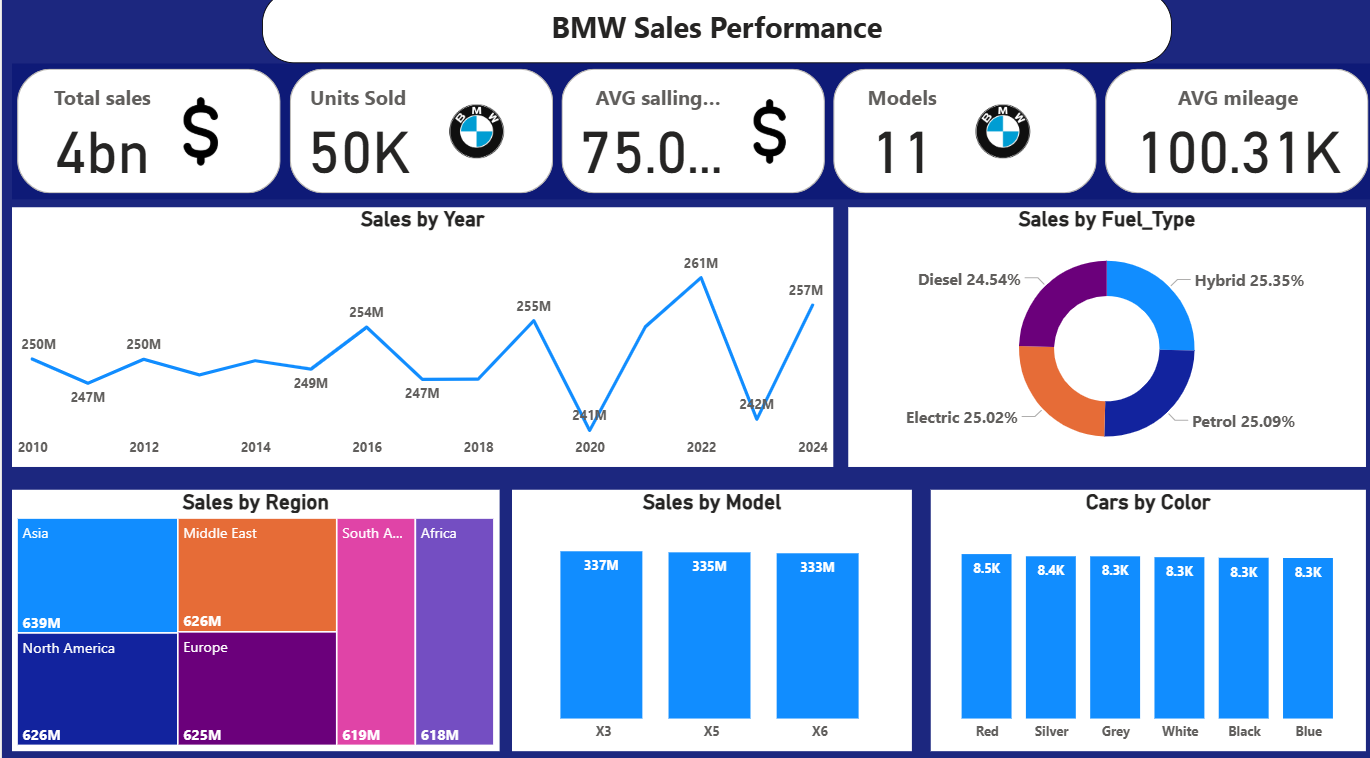

Layout of this report page (visuals, bound fields, positions):
{"tool":"powerbi","page":{"name":"Overview","canvas":[1280,720],"ordinal":0},"visuals":[{"type":"cardVisual","fields":{"Data":["BMW sales data (2010-2024) (1).Total sales","BMW sales data (2010-2024) (1).Total Cars","BMW sales data (2010-2024) (1).AVG salling price","BMW sales data (2010-2024) (1).Models","BMW sales data (2010-2024) (1).AVG mileage"]},"box":[9.3,67.4,1270.9,126.7],"z":0},{"type":"textbox","box":[241.9,0,846.5,67.4],"z":1000},{"type":"lineChart","title":"Sales by Year","fields":{"Category":["BMW sales data (2010-2024) (1).Year"],"Y":["BMW sales data (2010-2024) (1).Total sales"]},"box":[9.3,201.2,764,241.9],"z":2000},{"type":"donutChart","title":"Sales by Fuel_Type","fields":{"Category":["BMW sales data (2010-2024) (1).Fuel_Type"],"Y":["BMW sales data (2010-2024) (1).Total sales"]},"box":[787.2,201.2,481.4,241.9],"z":3000},{"type":"treemap","title":"Sales by Region","fields":{"Group":["BMW sales data (2010-2024) (1).Region"],"Values":["BMW sales data (2010-2024) (1).Total sales"]},"box":[9.3,464,453.5,243],"z":4000},{"type":"clusteredColumnChart","title":"Sales by Model","fields":{"Category":["BMW sales data (2010-2024) (1).Model"],"Y":["BMW sales data (2010-2024) (1).Total sales"]},"box":[474.4,464,372.1,243],"z":5000},{"type":"columnChart","title":"Cars by Color","fields":{"Category":["BMW sales data (2010-2024) (1).Color"],"Y":["BMW sales data (2010-2024) (1).Total Cars"]},"box":[864,464,404.7,243],"z":6000}]}

Visuals, with their boxes in screenshot pixels (x1, y1, x2, y2), scaled from the page's 1280x720 canvas onto the 1370x758 screenshot:
cardVisual - BMW sales data (2010-2024) (1).Total sales x BMW sales data (2010-2024) (1).Total Cars: (left=10, top=71, right=1369, bottom=204)
textbox: (left=259, top=0, right=1165, bottom=71)
"Sales by Year" lineChart: (left=10, top=212, right=828, bottom=466)
"Sales by Fuel_Type" donutChart: (left=843, top=212, right=1358, bottom=466)
"Sales by Region" treemap: (left=10, top=488, right=495, bottom=744)
"Sales by Model" clusteredColumnChart: (left=508, top=488, right=906, bottom=744)
"Cars by Color" columnChart: (left=925, top=488, right=1358, bottom=744)
